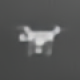plane: (14, 23, 64, 59)
